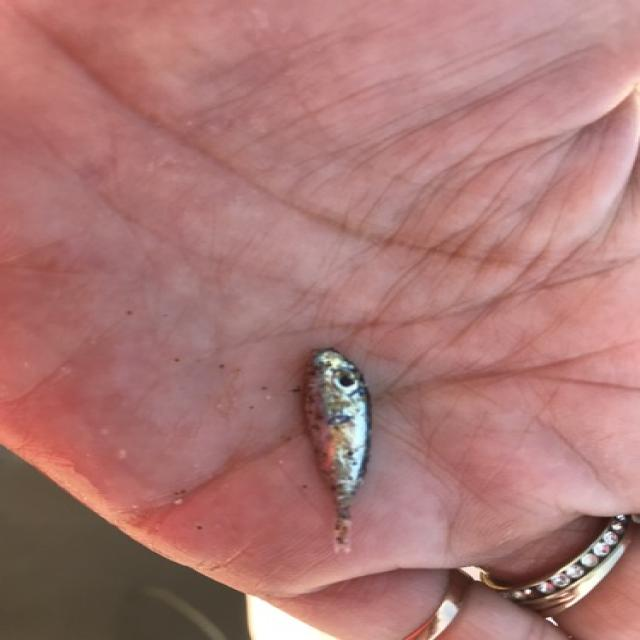Balik: (306, 349, 370, 550)
